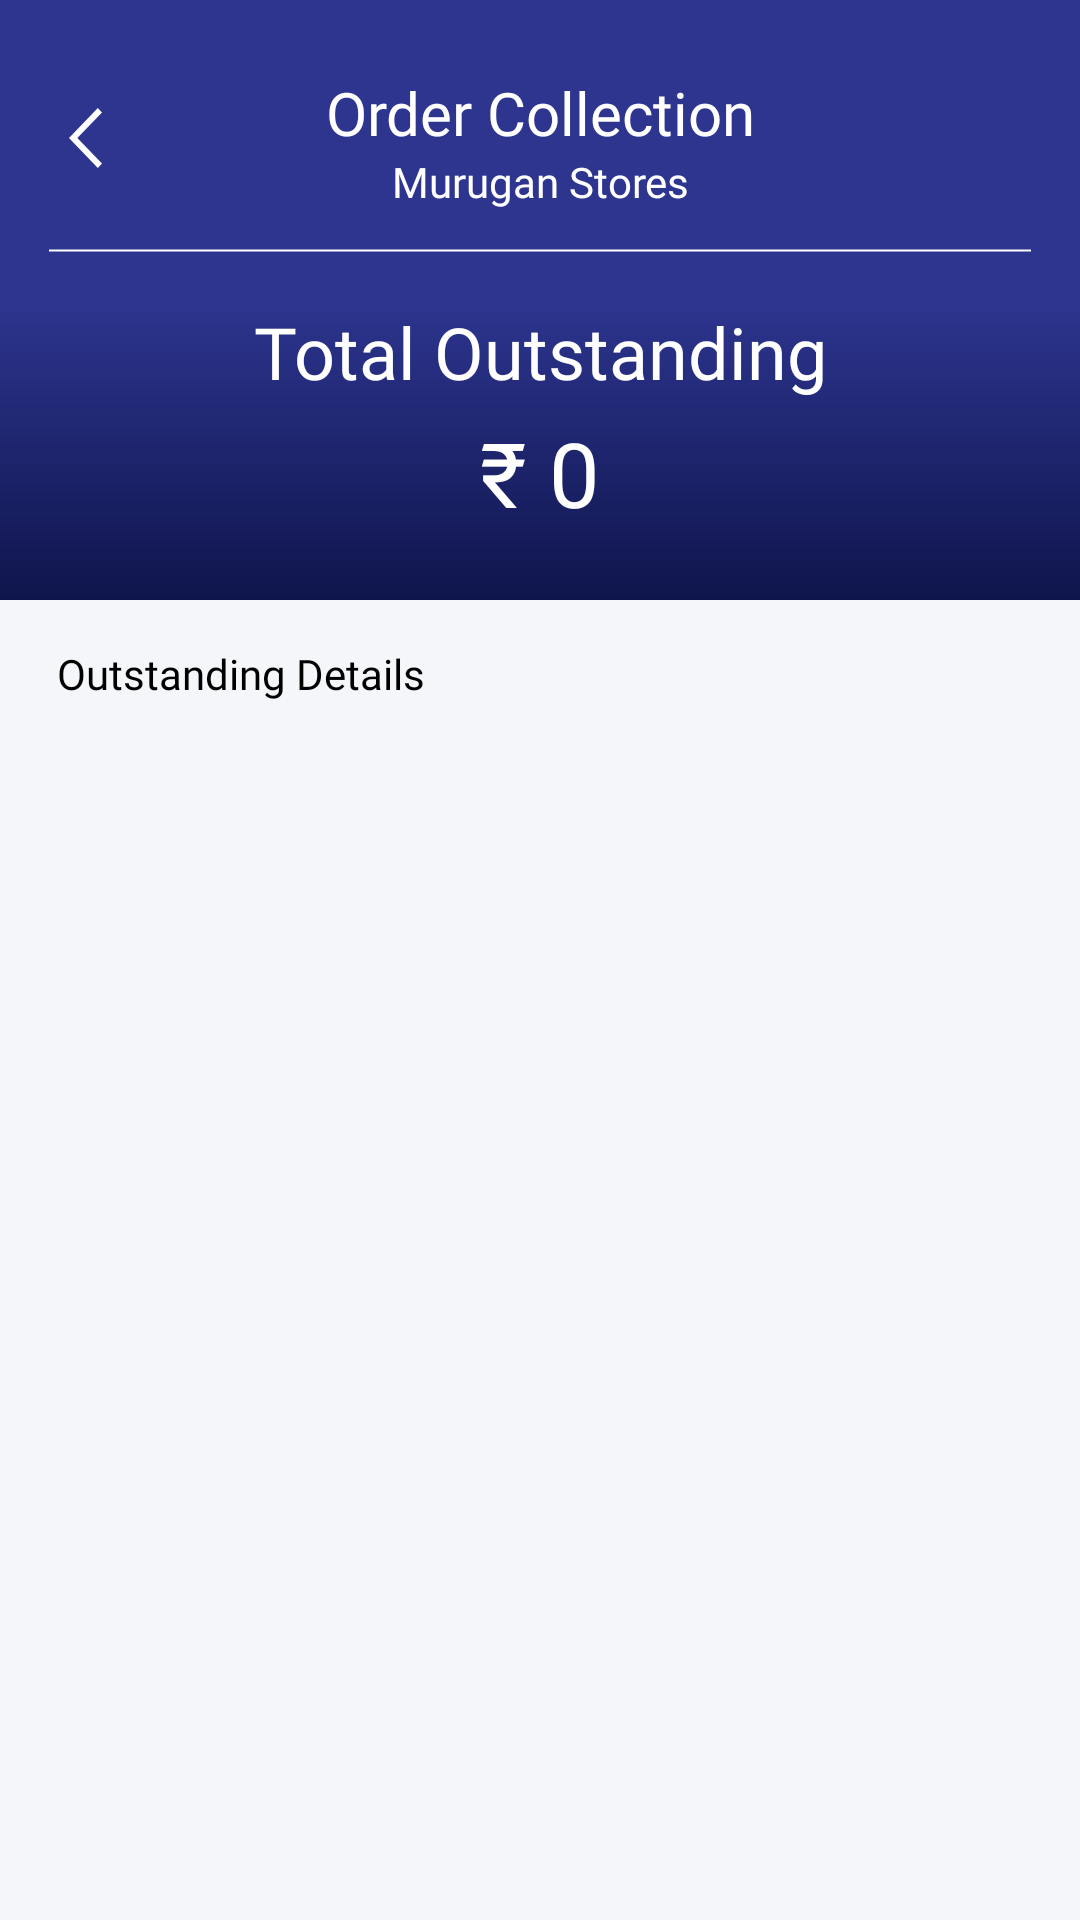

Point at icon controls on the screen. Image size 1080 x 1920, points as [x,y].
back: [85,138]
